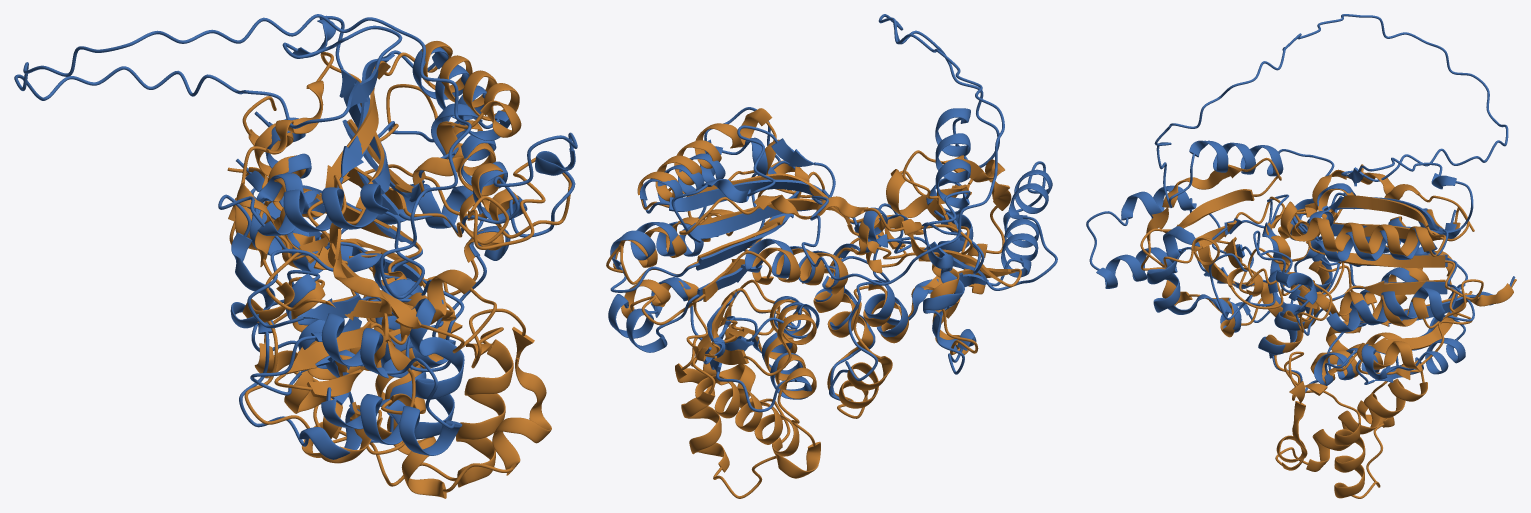
Rendered from AF-A0A5B9Y4K1-F1-AF-O14717-F1_TM-align.glb.
3 views of the same model, side by side, from view 1: azimuth 30°, elevation 25°; view 2: azimuth 150°, elevation 25°; view 3: azimuth 270°, elevation 25° (orthographic). The views are drawn at different scales.
Size of the model in its own units: 63.01 by 70.95 by 71.06.
